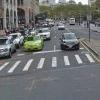Crosswalk: (4, 55, 98, 81)
